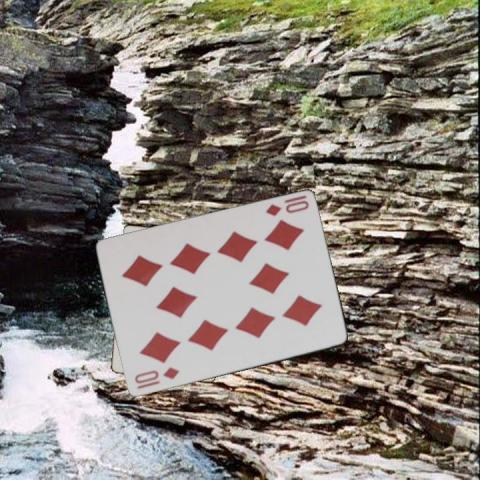10d: (262, 197, 310, 218), (131, 365, 180, 385)
